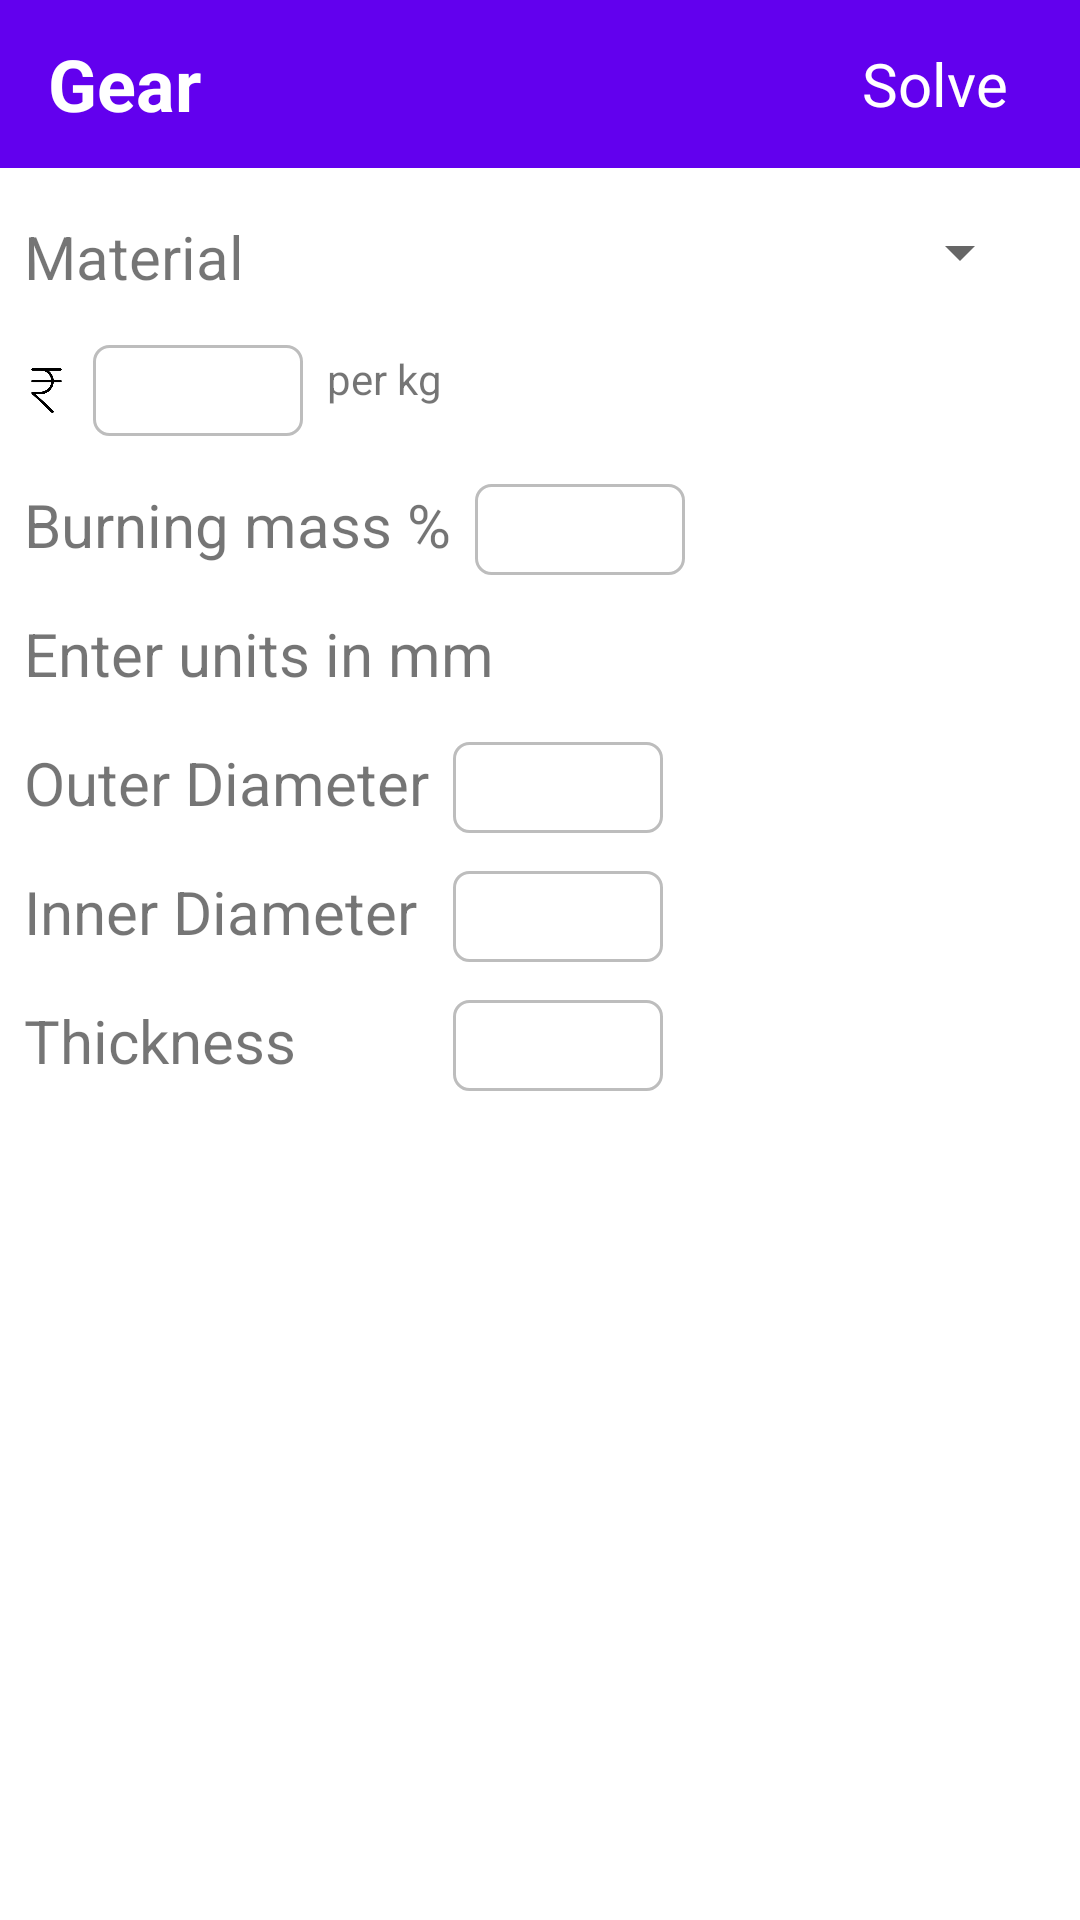

Point at icon controls on the screen. Image size 1080 × 1920, points as [x,y].
rupee: [46,390]
